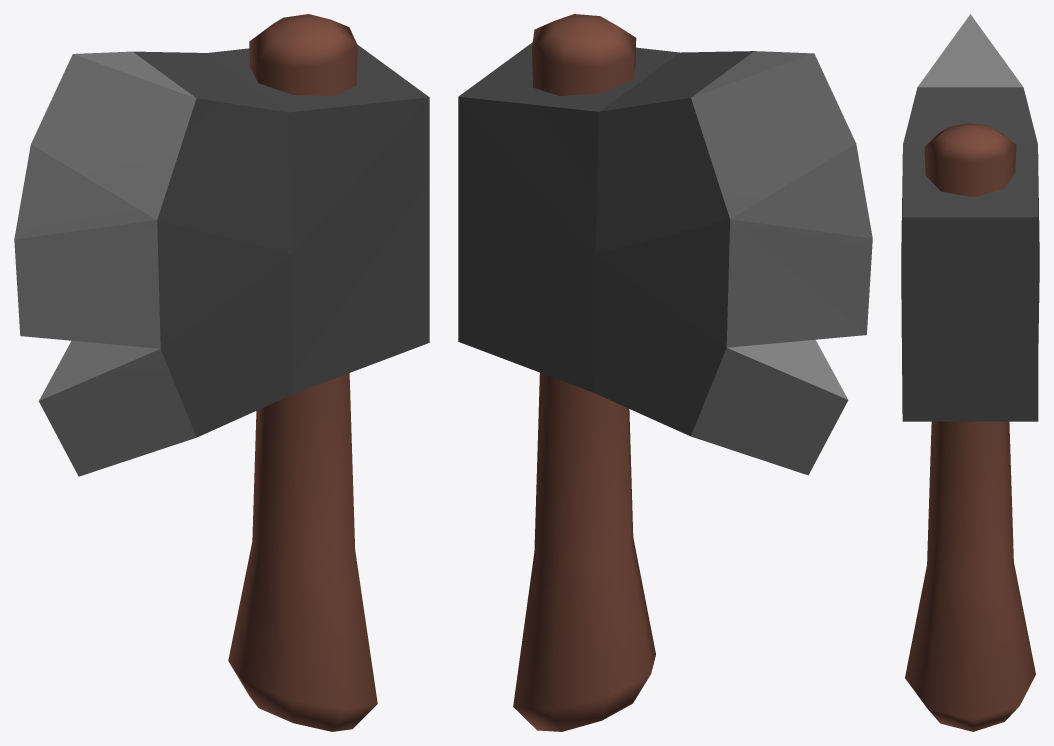
The model's file is Axe_RHand_1.fbx.
The picture shows the model from 3 angles, left to right: view 1: azimuth 30°, elevation 25°; view 2: azimuth 150°, elevation 25°; view 3: azimuth 270°, elevation 25°; orthographic projection. The views are drawn at different scales.
Visible parts, largest first — view 1: Axe_RHand_1; view 2: Axe_RHand_1; view 3: Axe_RHand_1.
Part boxes in pixels (box(x1,y1,x2,y2)): Axe_RHand_1: box(14, 14, 429, 731); Axe_RHand_1: box(458, 14, 872, 731); Axe_RHand_1: box(901, 14, 1039, 731).
Bounding box in the file's own units: 26.24 × 48.91 × 10.11.
